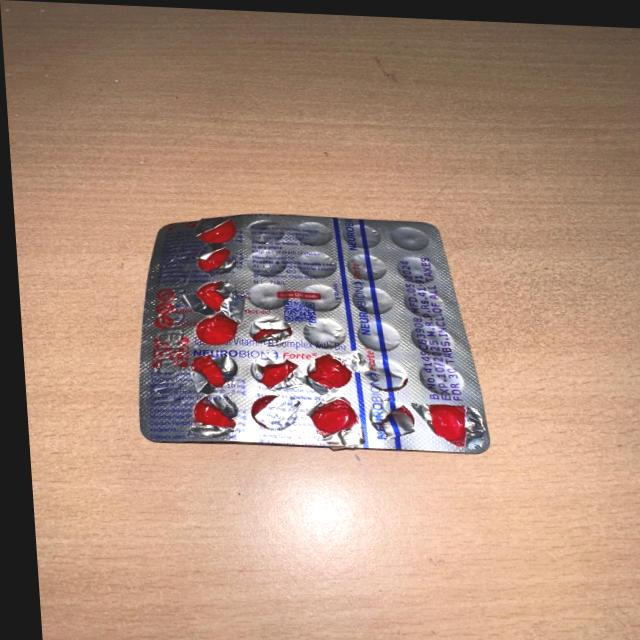medicine: (110, 206, 512, 460)
